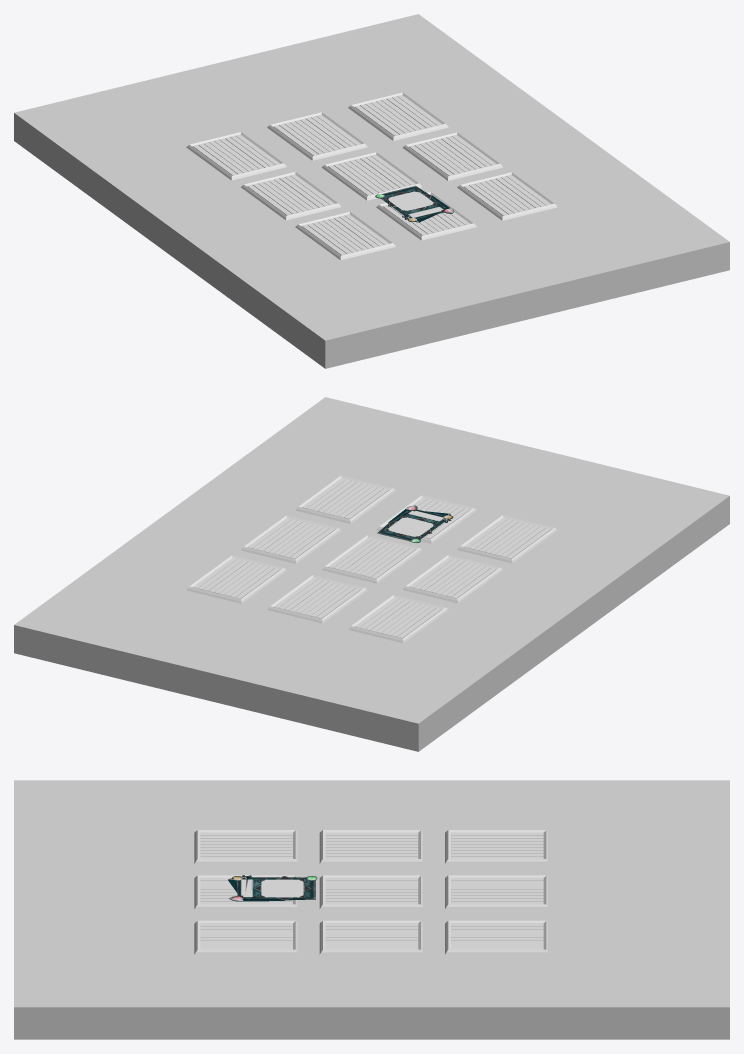
File: CardArena 1.fbx
3 renders of one model, top to bottom at view 1: azimuth 30°, elevation 25°; view 2: azimuth 150°, elevation 25°; view 3: azimuth 270°, elevation 25°, orthographic. The views are drawn at different scales.
Parts seen in each view (by area): view 1: Cube, Card Slot.001, Card Slot.006, Card Slot.002, Card Slot.004, Card Slot.008, Card Slot.003, Card Slot.007, Card Slot.005, Card Slot, Cube.007; view 2: Cube, Card Slot.002, Card Slot.007, Card Slot.004, Card Slot.005, Card Slot.006, Card Slot.008, Card Slot.003, Card Slot.001, Cube.007, Card Slot; view 3: Cube, Card Slot.005, Card Slot.003, Card Slot.008, Card Slot.002, Card Slot.006, Card Slot.004, Card Slot.001, Card Slot.007, Card Slot, Cube.007.
Part boxes in pixels (bbox=[...]): Cube: bbox=[14, 14, 729, 368]; Card Slot.001: bbox=[295, 212, 395, 260]; Card Slot.006: bbox=[348, 92, 448, 140]; Card Slot.002: bbox=[457, 172, 557, 220]; Card Slot.004: bbox=[241, 172, 341, 220]; Card Slot.008: bbox=[267, 112, 367, 160]; Card Slot.003: bbox=[402, 132, 502, 180]; Card Slot.007: bbox=[186, 132, 286, 180]; Card Slot.005: bbox=[322, 152, 421, 200]; Card Slot: bbox=[376, 192, 476, 240]; Cube.007: bbox=[375, 185, 453, 222]; Cube: bbox=[14, 397, 729, 751]; Card Slot.002: bbox=[295, 475, 395, 523]; Card Slot.007: bbox=[348, 595, 448, 643]; Card Slot.004: bbox=[402, 555, 502, 603]; Card Slot.005: bbox=[322, 535, 421, 583]; Card Slot.006: bbox=[186, 555, 286, 603]; Card Slot.008: bbox=[267, 575, 367, 623]; Card Slot.003: bbox=[241, 515, 341, 563]; Card Slot.001: bbox=[457, 515, 557, 563]; Cube.007: bbox=[377, 505, 453, 542]; Card Slot: bbox=[376, 495, 476, 543]; Cube: bbox=[14, 780, 729, 1039]; Card Slot.005: bbox=[319, 875, 424, 909]; Card Slot.003: bbox=[319, 920, 424, 954]; Card Slot.008: bbox=[445, 875, 549, 909]; Card Slot.002: bbox=[194, 920, 298, 954]; Card Slot.006: bbox=[445, 920, 549, 954]; Card Slot.004: bbox=[319, 830, 424, 863]; Card Slot.001: bbox=[194, 830, 298, 863]; Card Slot.007: bbox=[445, 830, 549, 863]; Card Slot: bbox=[194, 875, 298, 909]; Cube.007: bbox=[228, 875, 317, 901].
Size of the model in its own units: 3000 by 234 by 4000.
